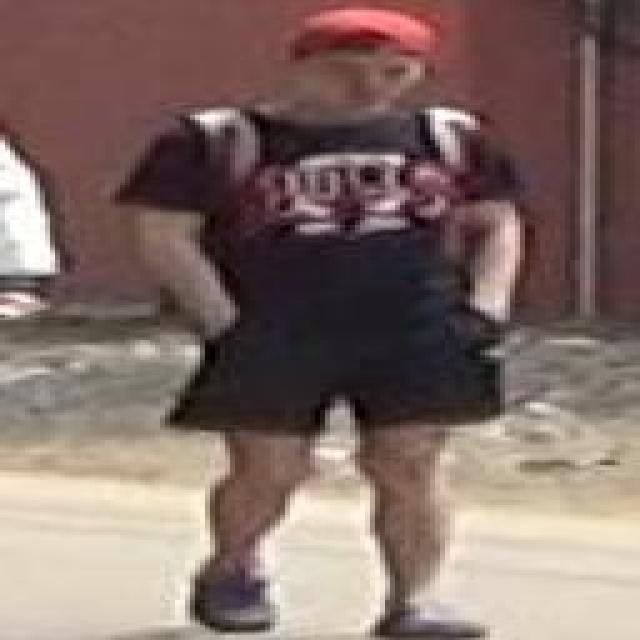adult: (118, 14, 535, 632)
